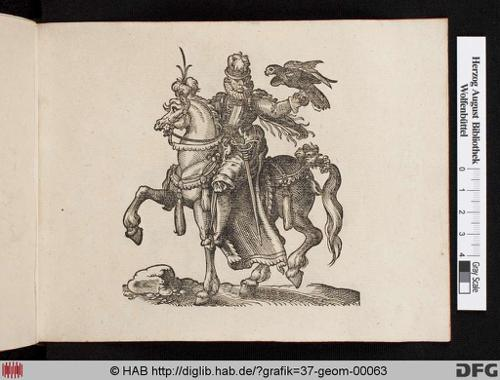bird: (265, 56, 334, 112)
horse: (122, 97, 344, 305)
knight: (195, 58, 302, 251)
sword: (233, 133, 265, 245)
